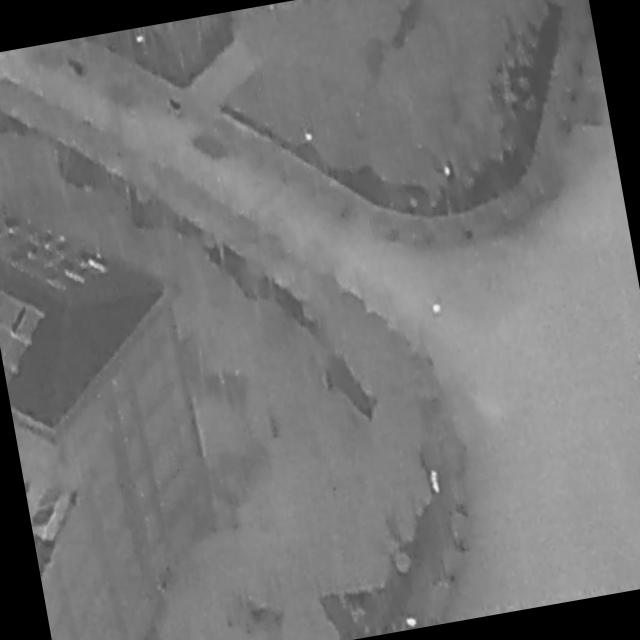person: (428, 467, 442, 496)
